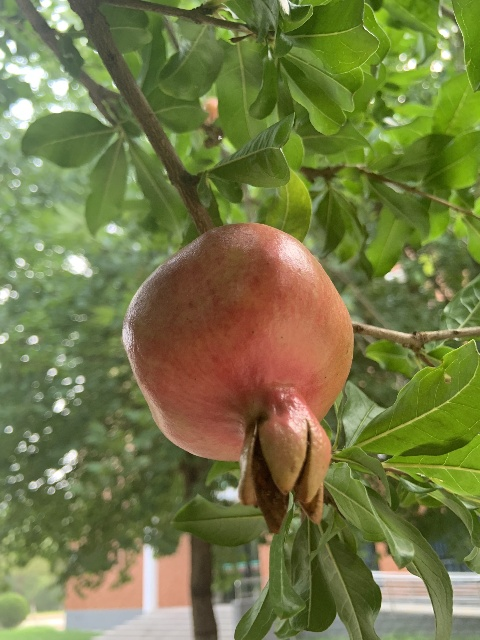ripe: (123, 222, 354, 531)
